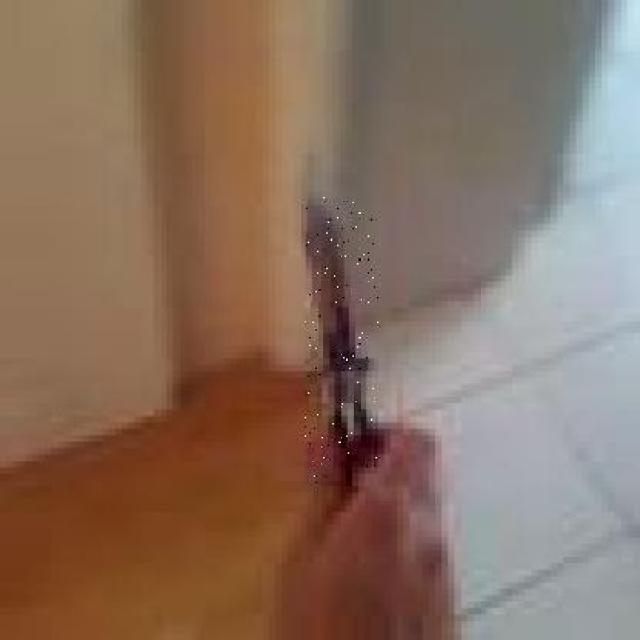knife: (305, 197, 380, 486)
